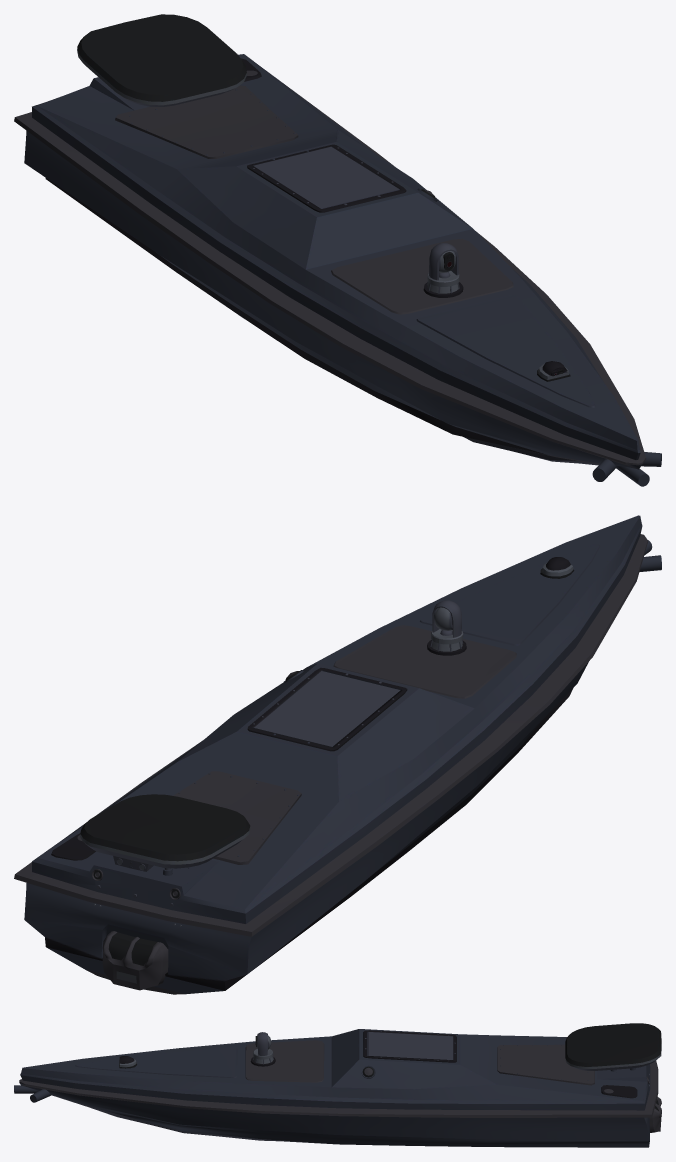
Rendered from magura.glb.
The picture shows the model from 3 angles, top to bottom: view 1: azimuth 30°, elevation 25°; view 2: azimuth 150°, elevation 25°; view 3: azimuth 270°, elevation 25°; orthographic projection. The views are drawn at different scales.
Visible parts, largest first — view 1: 马古拉（Magura）V5无人艇; view 2: 马古拉（Magura）V5无人艇; view 3: 马古拉（Magura）V5无人艇.
Boxes of the visible parts, x1,y1,x2,y2 form: 马古拉（Magura）V5无人艇: [14, 14, 661, 486]; 马古拉（Magura）V5无人艇: [14, 515, 661, 994]; 马古拉（Magura）V5无人艇: [14, 1023, 661, 1147].
Size of the model in its own units: 0.5281 by 0.3489 by 2.
1 material, 1 textured.
